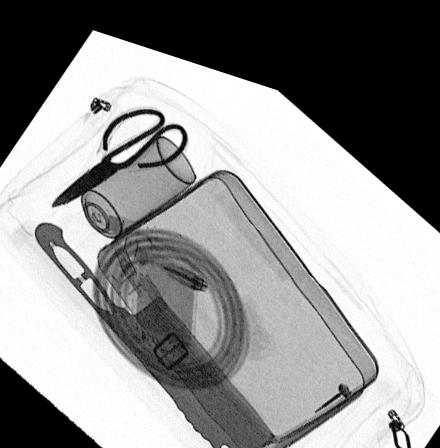Knife: (35, 219, 278, 445)
Powerbank: (132, 224, 200, 347)
Scissors: (50, 95, 188, 205)
Sprayer: (81, 126, 194, 230)
